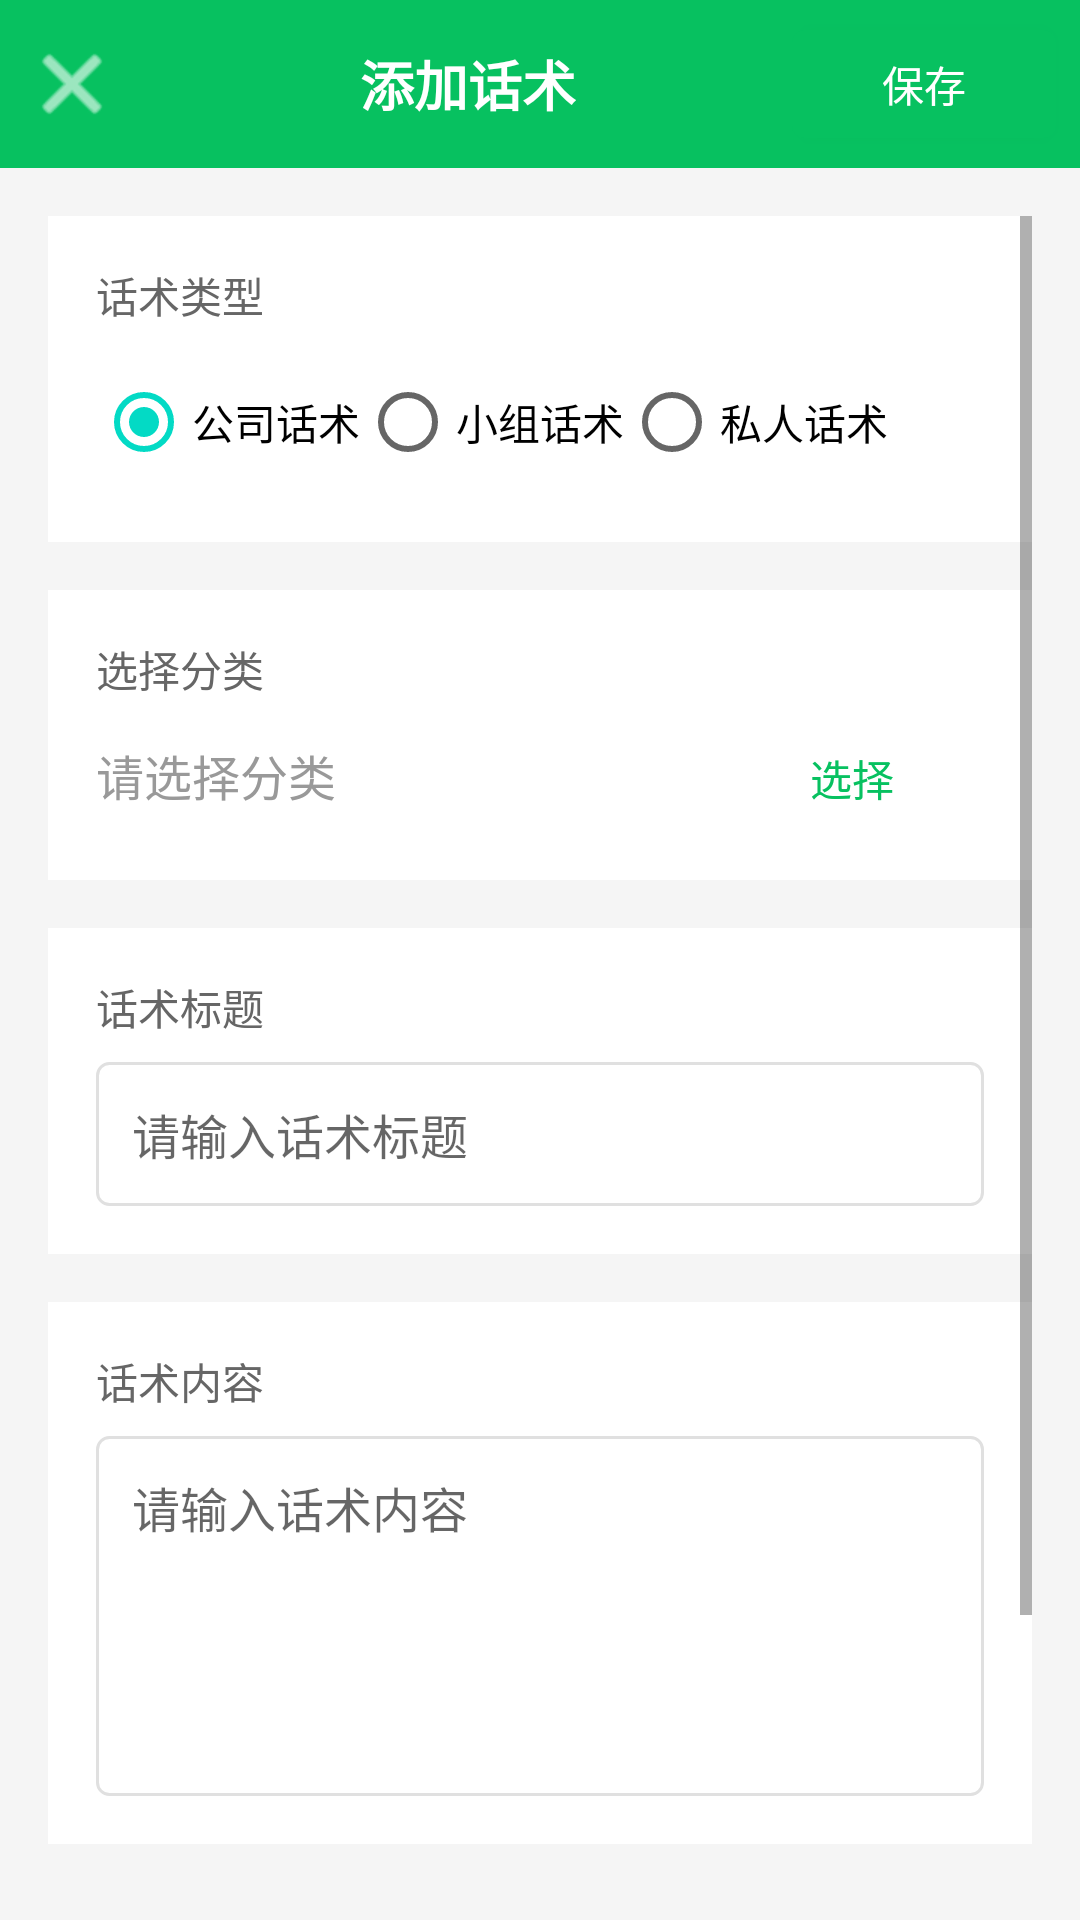

Icons on this 1080w x 1920h Android screen, each with its box as (x1, y1, x2, y2):
close clear cancel: (42, 54, 102, 114)
